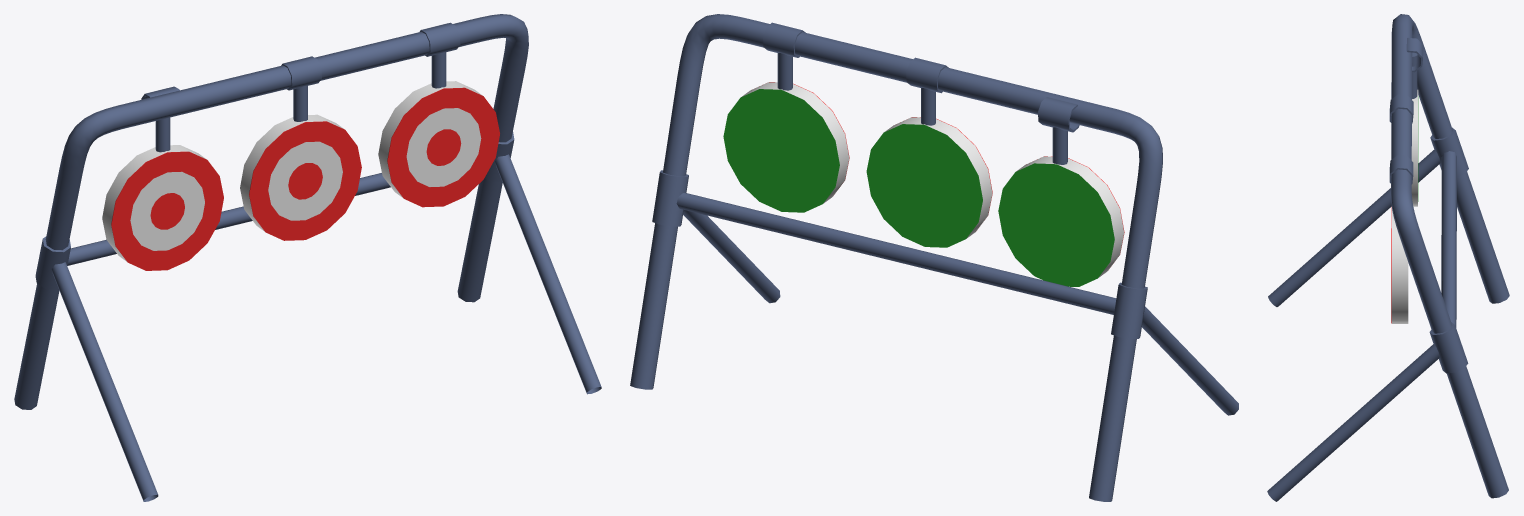
Rendered from Aim2.fbx.
3 views of the same model, side by side, from view 1: azimuth 30°, elevation 25°; view 2: azimuth 150°, elevation 25°; view 3: azimuth 270°, elevation 25° (orthographic). The views are drawn at different scales.
Parts seen in each view (by area): view 1: NurbsPath.004, NurbsPath.010, NurbsPath.002, NurbsPath.001; view 2: NurbsPath.004, NurbsPath.001, NurbsPath.010, NurbsPath.002; view 3: NurbsPath.004, NurbsPath.010, NurbsPath.001, NurbsPath.002.
Part boxes in pixels (x1,y1,x2,y2): NurbsPath.004: (14, 14, 601, 501); NurbsPath.010: (378, 22, 499, 207); NurbsPath.002: (240, 56, 361, 240); NurbsPath.001: (102, 86, 223, 270); NurbsPath.004: (630, 14, 1238, 501); NurbsPath.001: (998, 97, 1124, 286); NurbsPath.010: (723, 22, 849, 212); NurbsPath.002: (866, 57, 992, 247); NurbsPath.004: (1267, 14, 1509, 501); NurbsPath.010: (1389, 155, 1413, 323); NurbsPath.001: (1406, 38, 1423, 206); NurbsPath.002: (1389, 94, 1413, 123).
Bounding box in the file's own units: 0.228 × 0.1564 × 0.1136.
